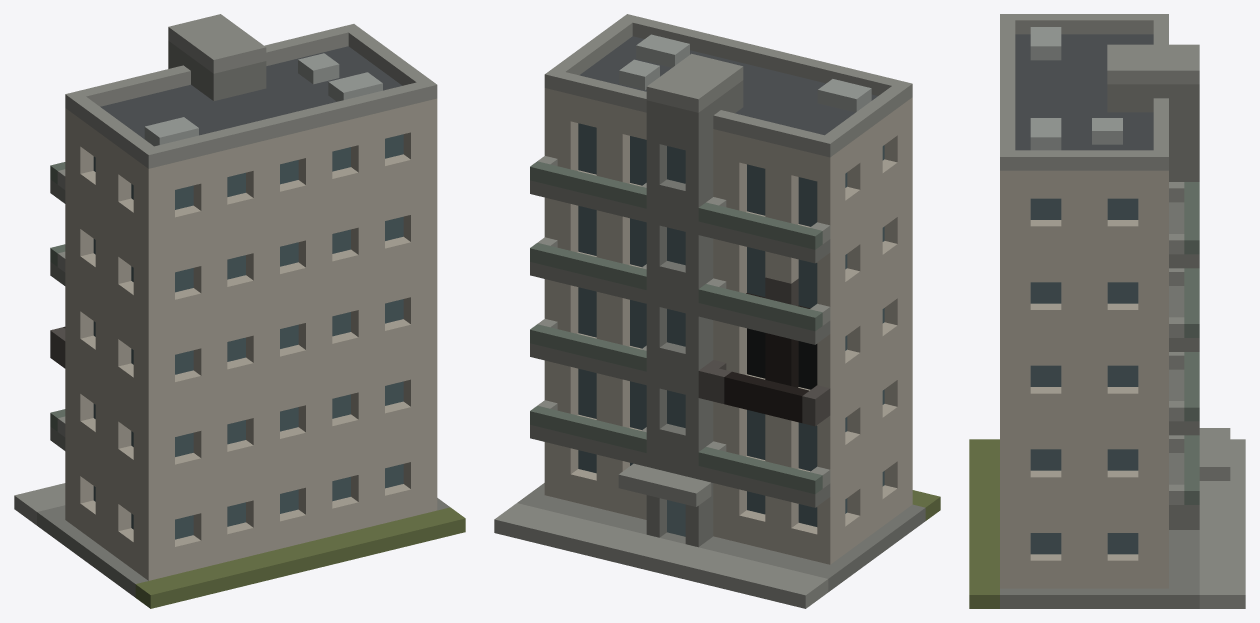
Rendered from Claude_apartment_block.glb.
3 views of the same model, side by side, from view 1: azimuth 30°, elevation 25°; view 2: azimuth 150°, elevation 25°; view 3: azimuth 270°, elevation 25° (orthographic). The views are drawn at different scales.
Visible parts, largest first — view 1: Claude_apartment_block; view 2: Claude_apartment_block; view 3: Claude_apartment_block.
Part boxes in pixels (x1,y1,x2,y2): Claude_apartment_block: (14, 14, 465, 608); Claude_apartment_block: (494, 14, 940, 608); Claude_apartment_block: (969, 14, 1245, 608).
Bounding box in the file's own units: 12 × 17 × 9.
